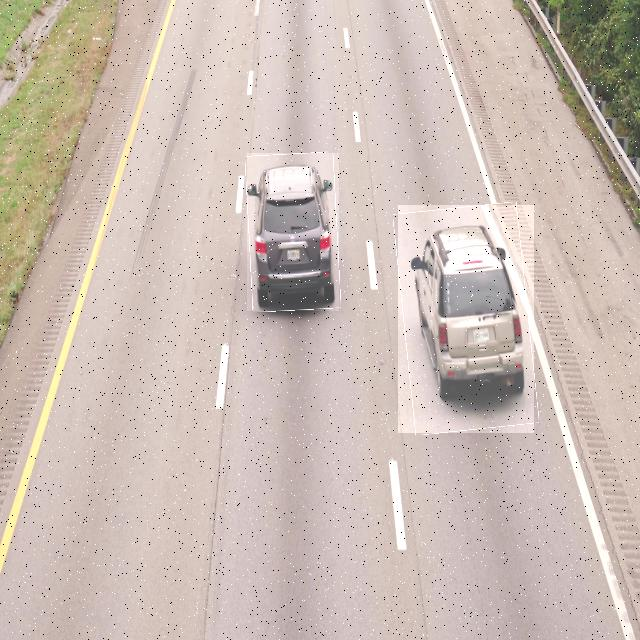Car: (398, 205, 534, 433), (247, 153, 339, 311)
